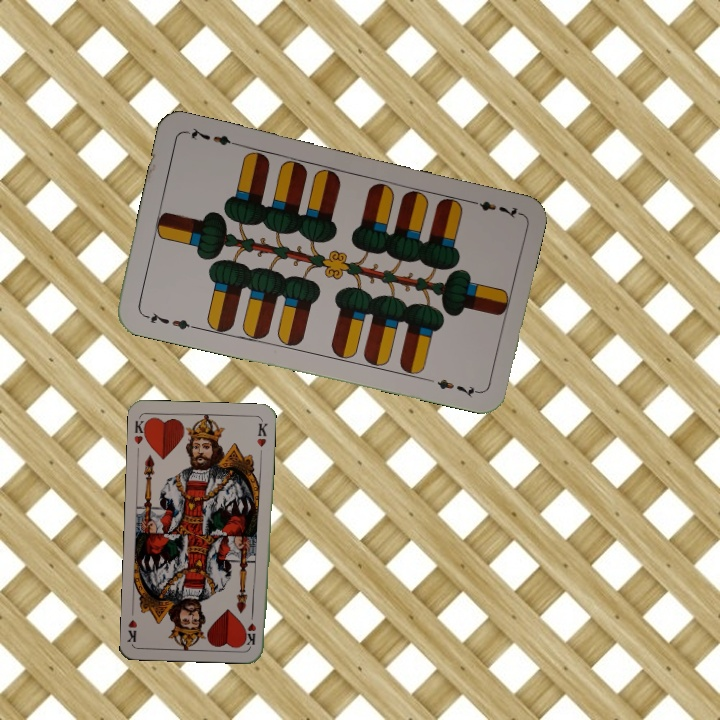E7: (463, 195, 522, 221), (140, 308, 198, 332)
HK: (130, 414, 150, 446), (244, 607, 259, 648)
